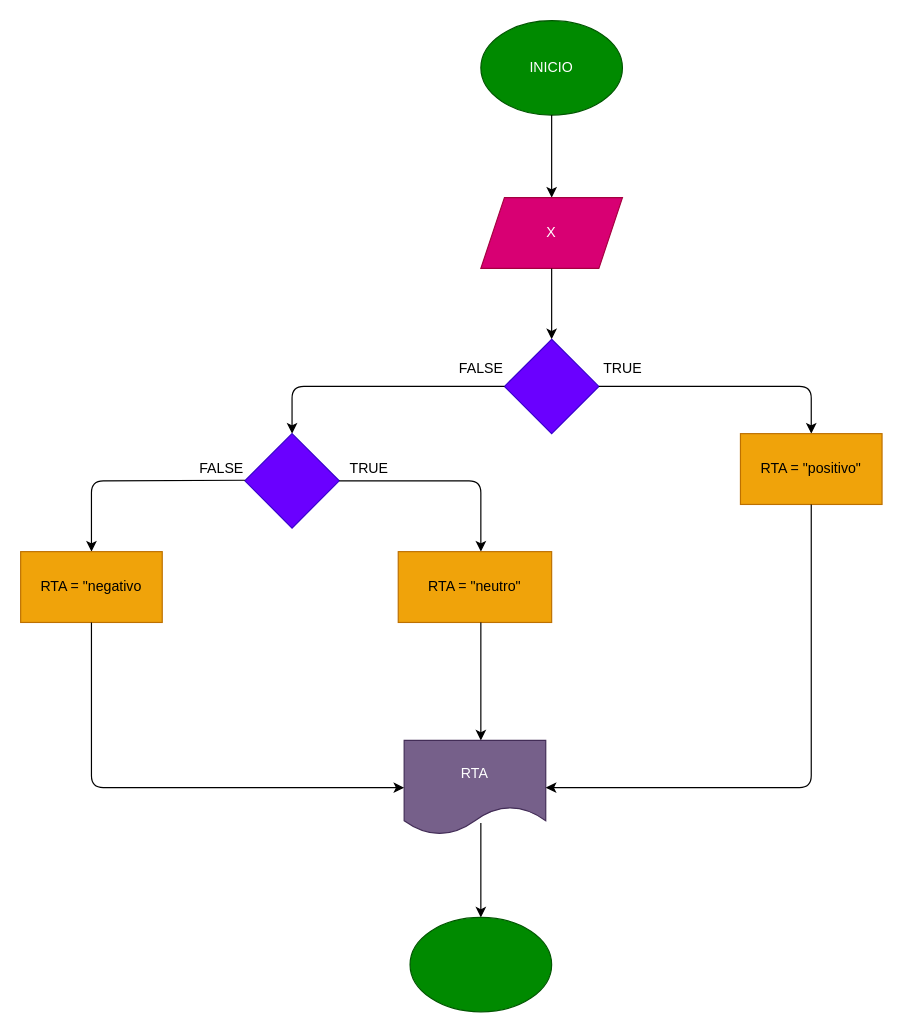
The diagram is 903 pixels wide and 1033 high, and some of its shapes have lost their labels. Here are the shapes that lost their labels. From the top down, the centre of each, then its label:
point 551,386: X > 0
point 291,480: X == 0
point 480,964: FIN
